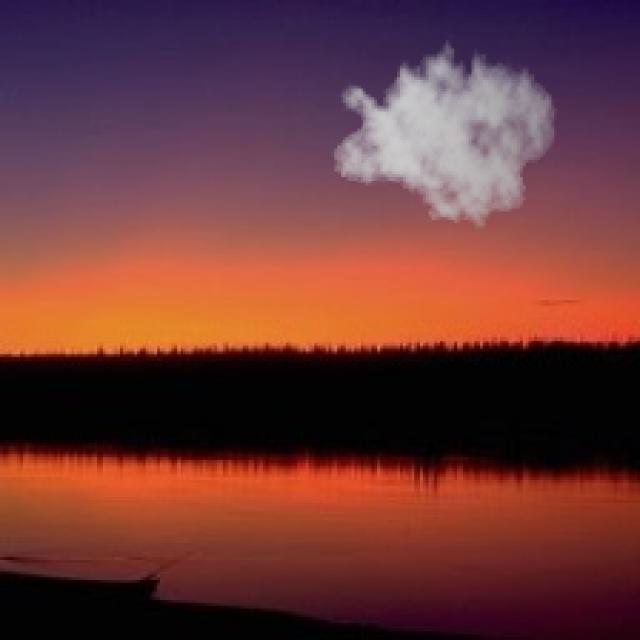Smoke: (332, 32, 557, 235)
